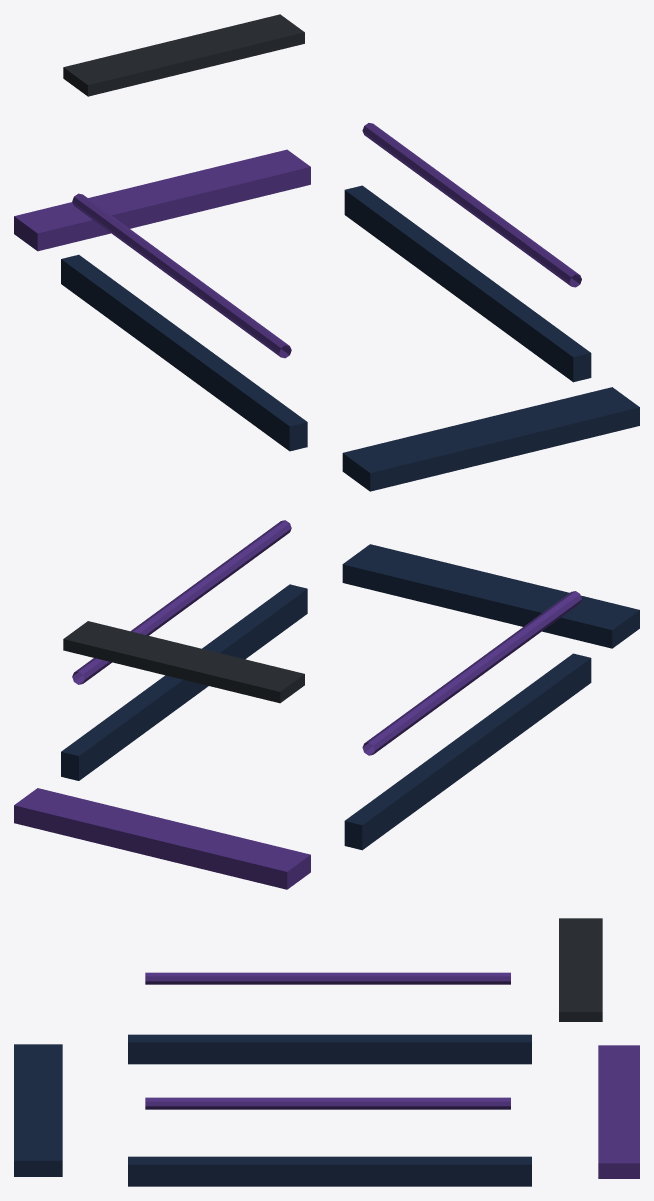
The model's file is yellow_beetle_midnight_dress.obj.
The picture shows the model from 3 angles, top to bottom: view 1: azimuth 30°, elevation 25°; view 2: azimuth 150°, elevation 25°; view 3: azimuth 270°, elevation 25°; orthographic projection. The views are drawn at different scales.
Parts seen in each view (by area): view 1: DARK_SIDE_SKIRTS, MIDNIGHT_SPLITTER, REAR_GUARD, NIGHT_WING, NIGHT_ACCENT; view 2: DARK_SIDE_SKIRTS, MIDNIGHT_SPLITTER, REAR_GUARD, NIGHT_WING, NIGHT_ACCENT; view 3: DARK_SIDE_SKIRTS, NIGHT_ACCENT, MIDNIGHT_SPLITTER, REAR_GUARD, NIGHT_WING.
Part boxes in pixels (left/top/right/bottom): DARK_SIDE_SKIRTS: left=61, top=185, right=591, bottom=451; MIDNIGHT_SPLITTER: left=342, top=387, right=639, bottom=491; REAR_GUARD: left=14, top=149, right=310, bottom=251; NIGHT_WING: left=63, top=14, right=304, bottom=96; NIGHT_ACCENT: left=72, top=123, right=581, bottom=358; DARK_SIDE_SKIRTS: left=61, top=584, right=591, bottom=850; MIDNIGHT_SPLITTER: left=342, top=544, right=639, bottom=648; REAR_GUARD: left=14, top=788, right=310, bottom=889; NIGHT_WING: left=63, top=621, right=304, bottom=703; NIGHT_ACCENT: left=72, top=520, right=581, bottom=755; DARK_SIDE_SKIRTS: left=128, top=1034, right=531, bottom=1186; NIGHT_ACCENT: left=145, top=972, right=510, bottom=1109; MIDNIGHT_SPLITTER: left=14, top=1044, right=62, bottom=1176; REAR_GUARD: left=598, top=1045, right=639, bottom=1178; NIGHT_WING: left=559, top=918, right=602, bottom=1021.
Size of the model in its own units: 1.77 by 0.992 by 3.6.
